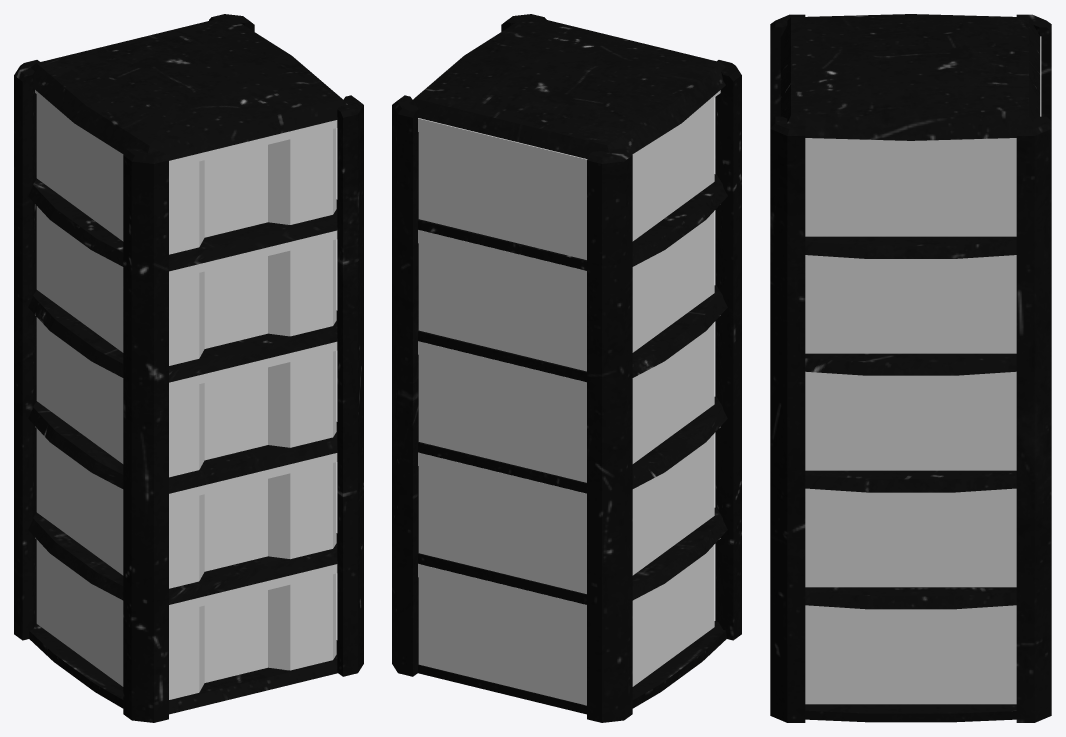
File: miniShelfs.fbx
3 views of the same model, side by side, from view 1: azimuth 30°, elevation 25°; view 2: azimuth 150°, elevation 25°; view 3: azimuth 270°, elevation 25° (orthographic). The views are drawn at different scales.
Parts seen in each view (by area): view 1: Cube.034; view 2: Cube.034; view 3: Cube.034.
Boxes of the visible parts, x1,y1,x2,y2 form: Cube.034: [14, 14, 363, 722]; Cube.034: [392, 14, 741, 722]; Cube.034: [770, 14, 1051, 722].
Size of the model in its own units: 1225 by 2828 by 1200.
